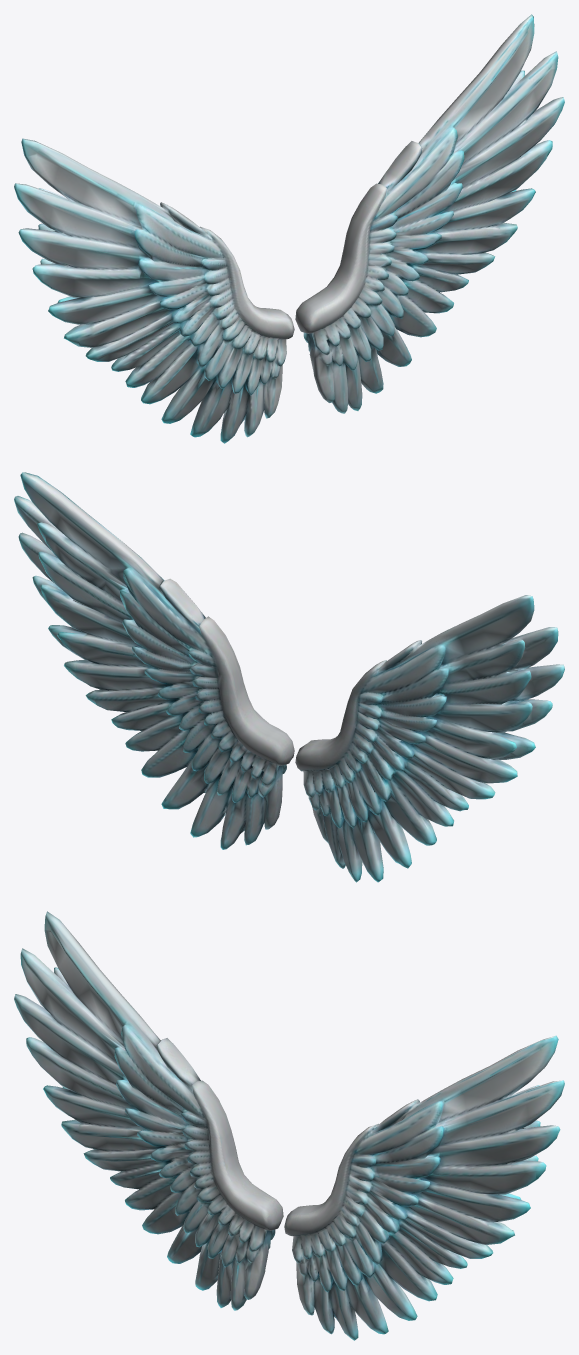
Rendered from wings.glb.
3 renders of one model, top to bottom at view 1: azimuth 30°, elevation 25°; view 2: azimuth 150°, elevation 25°; view 3: azimuth 330°, elevation 25°, orthographic.
Visible parts, largest first — view 1: tripo_node_5506f149-c7fb-4d64-8ffb-7a8c6d40c27a; view 2: tripo_node_5506f149-c7fb-4d64-8ffb-7a8c6d40c27a; view 3: tripo_node_5506f149-c7fb-4d64-8ffb-7a8c6d40c27a.
Boxes of the visible parts, box(x1,y1,x2,y2) form: tripo_node_5506f149-c7fb-4d64-8ffb-7a8c6d40c27a: box(14, 14, 564, 443); tripo_node_5506f149-c7fb-4d64-8ffb-7a8c6d40c27a: box(14, 472, 564, 882); tripo_node_5506f149-c7fb-4d64-8ffb-7a8c6d40c27a: box(14, 911, 564, 1340).
Size of the model in its own units: 0.9803 by 0.5851 by 0.0863.
1 material, 1 textured.
